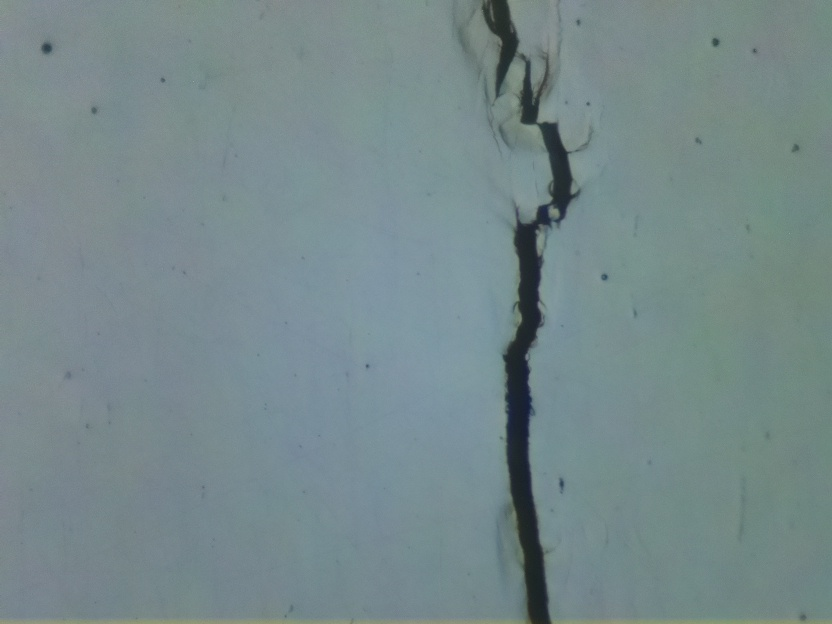crack: (503, 51, 578, 624), (485, 0, 520, 98)
